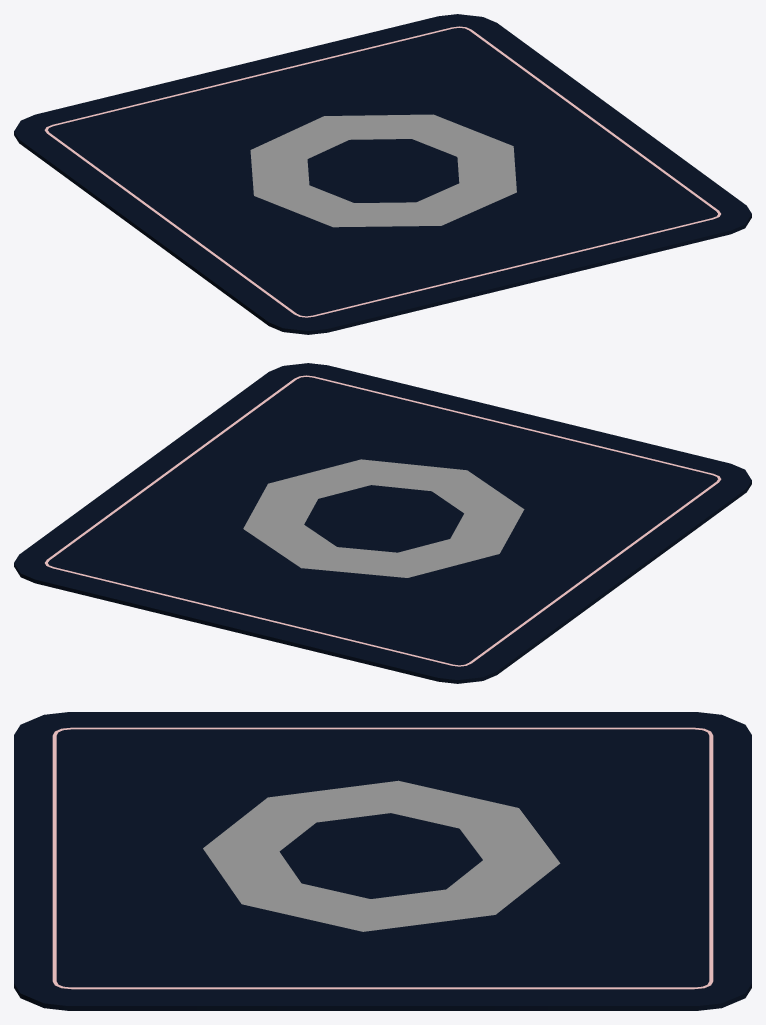
The model's file is W_M_Playground_O_L2.fbx.
The picture shows the model from 3 angles, top to bottom: view 1: azimuth 30°, elevation 25°; view 2: azimuth 150°, elevation 25°; view 3: azimuth 270°, elevation 25°; orthographic projection. The views are drawn at different scales.
Parts seen in each view (by area): view 1: W_M_Playground_O_L2; view 2: W_M_Playground_O_L2; view 3: W_M_Playground_O_L2.
Boxes of the visible parts, x1,y1,x2,y2 form: W_M_Playground_O_L2: (14,14,751,334); W_M_Playground_O_L2: (14,363,751,683); W_M_Playground_O_L2: (14,712,751,1010).
Bounding box in the file's own units: 17.08 × 0.204 × 18.12.
